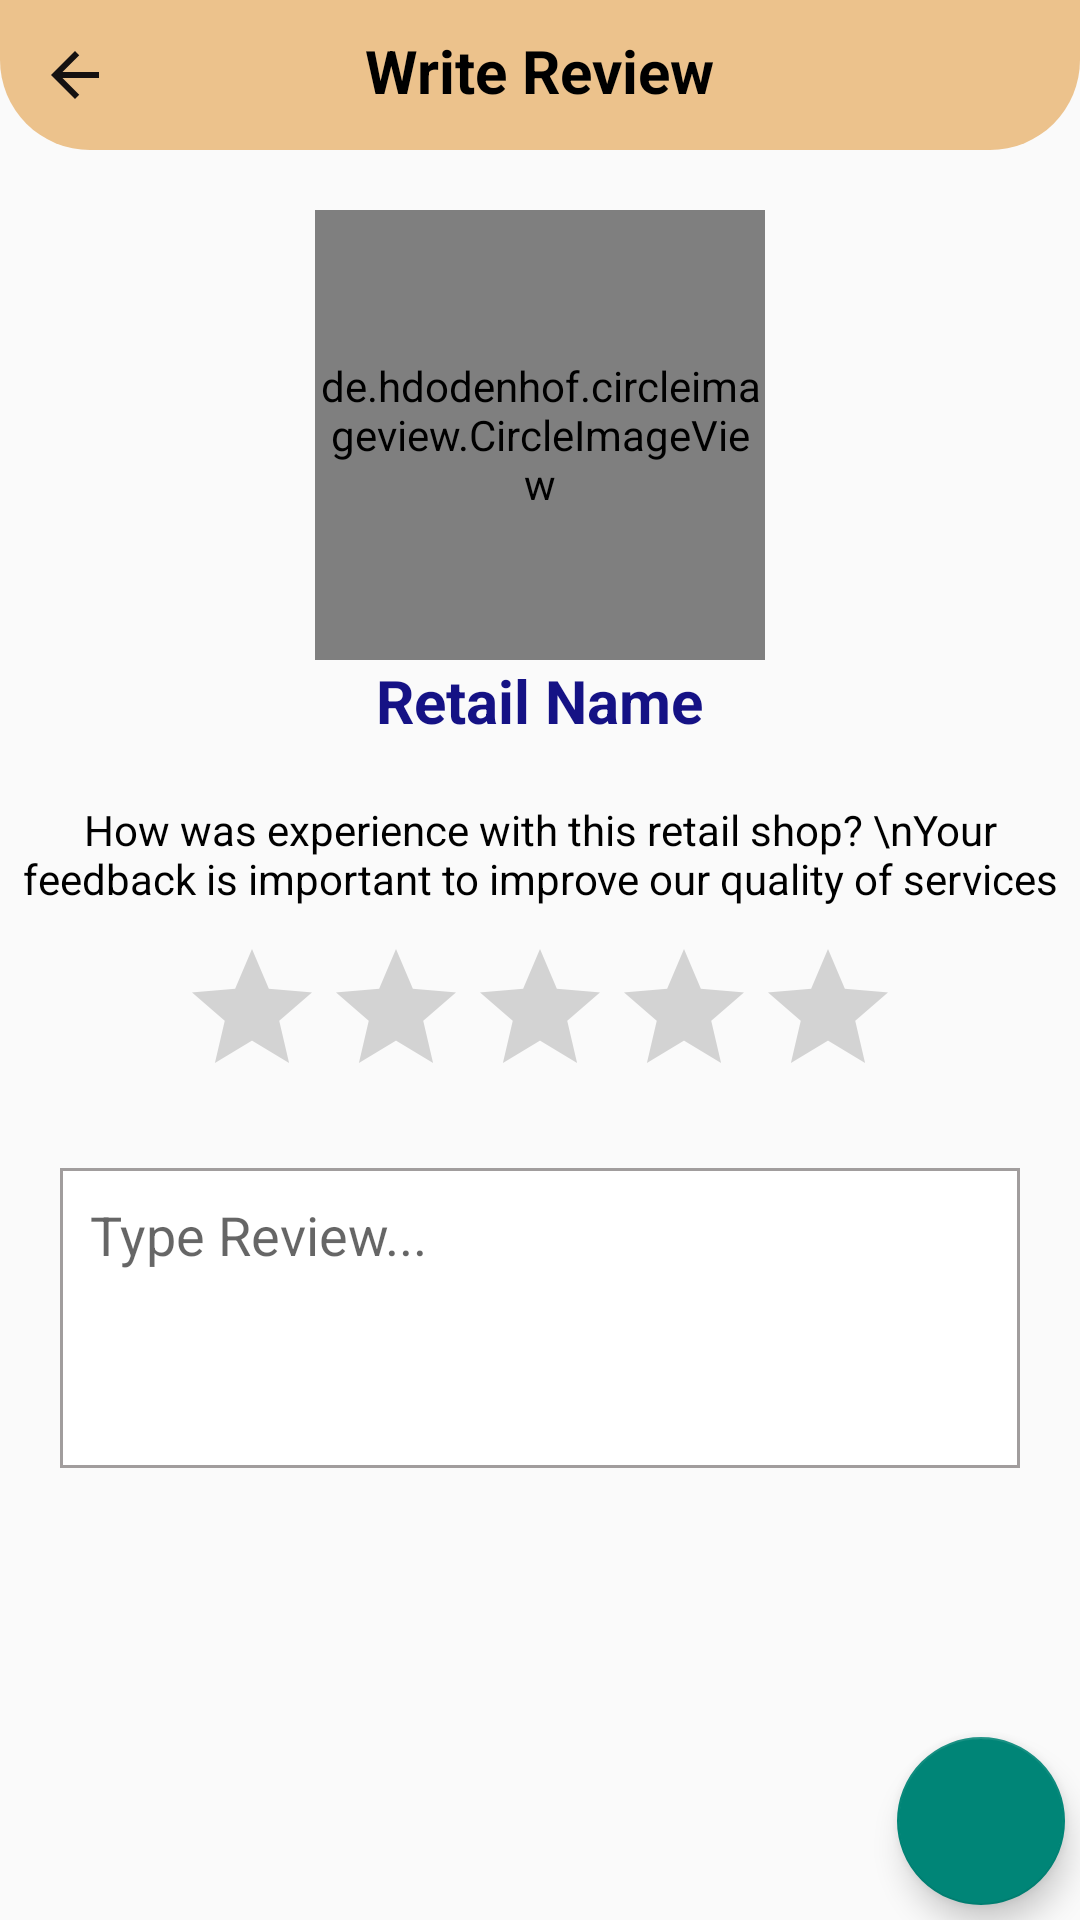

Point at icon controls on the screen. Image size 1080×1920, points as [x,y].
back: [75,75]
